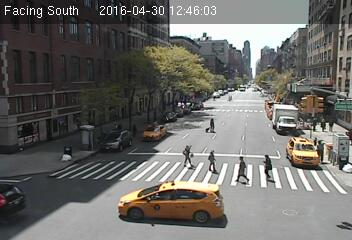neg: (60, 142, 75, 161), (334, 74, 346, 90), (264, 63, 276, 78), (339, 153, 350, 167), (315, 37, 323, 47), (299, 48, 305, 56)
pos: (231, 153, 254, 184), (176, 139, 198, 168), (257, 152, 278, 181), (203, 149, 223, 175), (312, 139, 327, 159), (206, 117, 218, 133), (320, 118, 330, 132), (310, 117, 320, 131), (328, 119, 337, 130)
